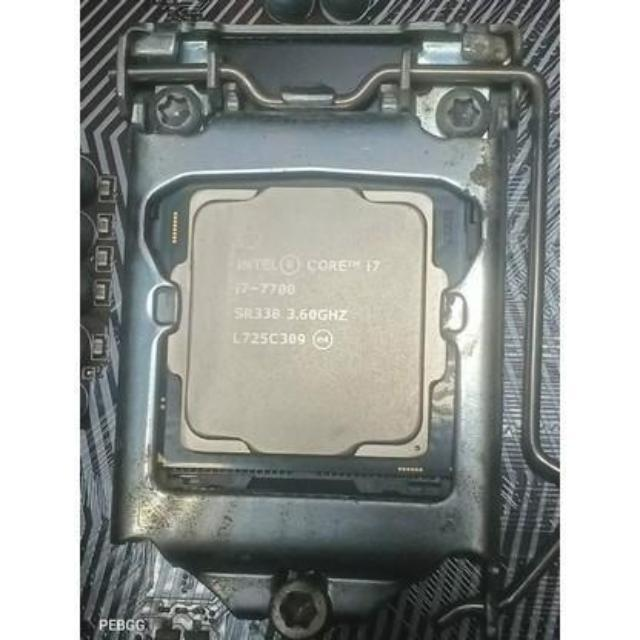CPU: (166, 184, 444, 462)
